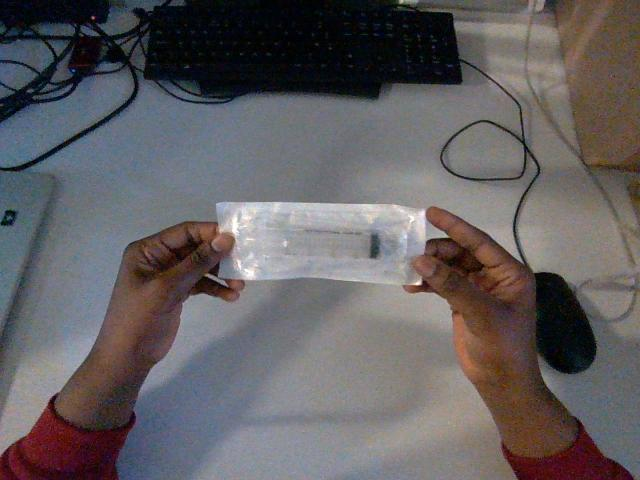syringe: (217, 202, 425, 284)
